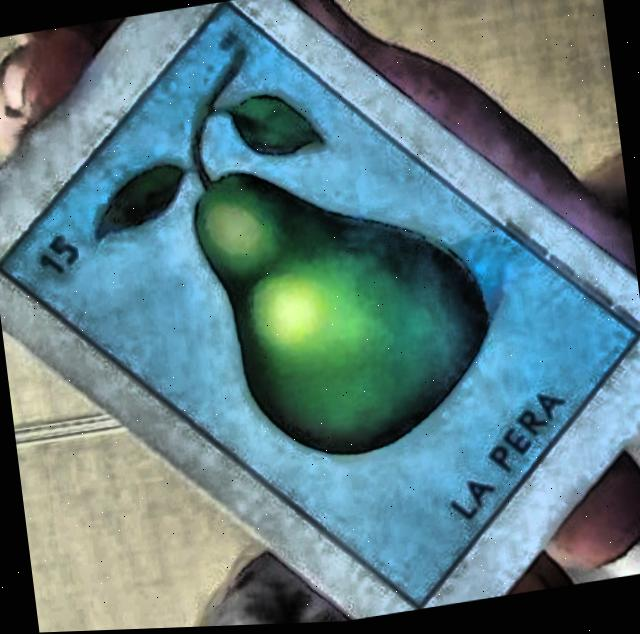La Pera: (1, 3, 638, 608)
